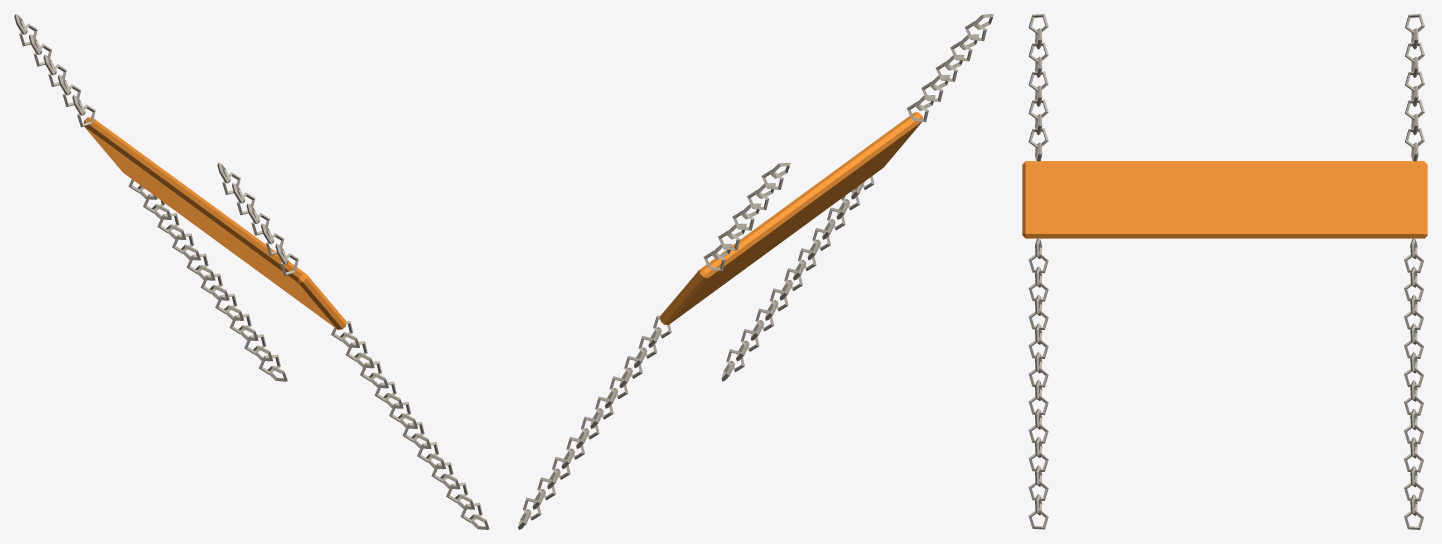
File: Cover.fbx
3 views of the same model, side by side, from view 1: azimuth 30°, elevation 25°; view 2: azimuth 150°, elevation 25°; view 3: azimuth 270°, elevation 25° (orthographic). The views are drawn at different scales.
Parts seen in each view (by area): view 1: Cover1; view 2: Cover1; view 3: Cover1.
Boxes of the visible parts, x1=… form: Cover1: x1=14, y1=14, x2=489, y2=529; Cover1: x1=518, y1=14, x2=993, y2=529; Cover1: x1=1022, y1=14, x2=1427, y2=529.
Size of the model in its own units: 30.92 by 46.98 by 43.37.
